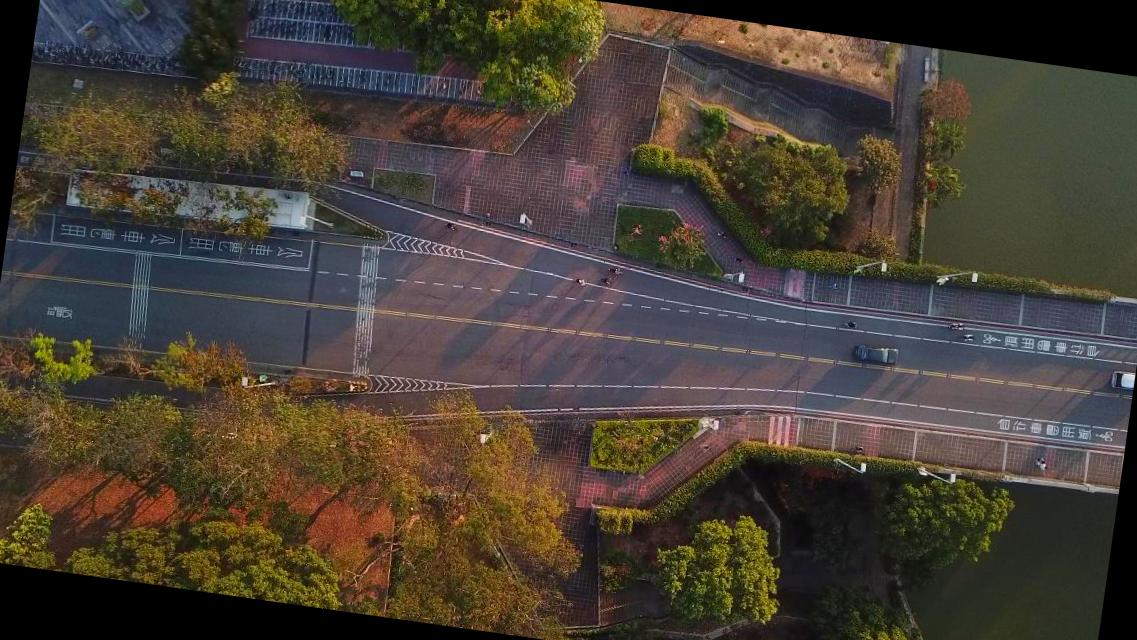vehicle: (853, 343, 899, 367), (1110, 368, 1134, 393)
